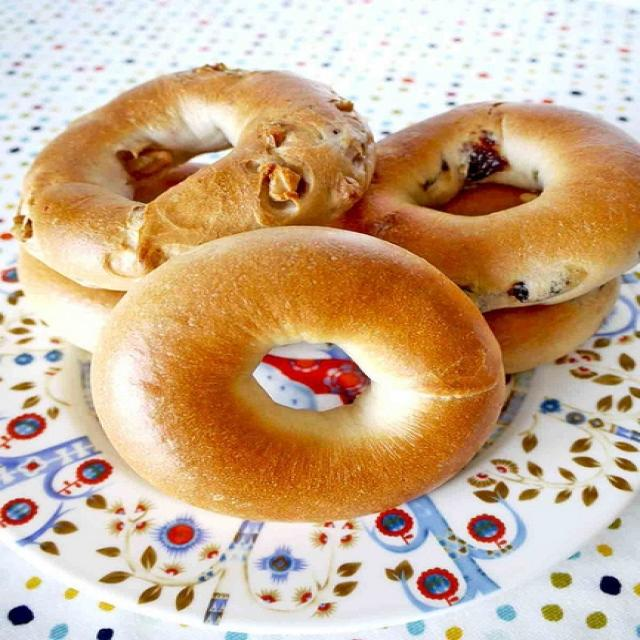面包点心: (3, 4, 633, 629)
